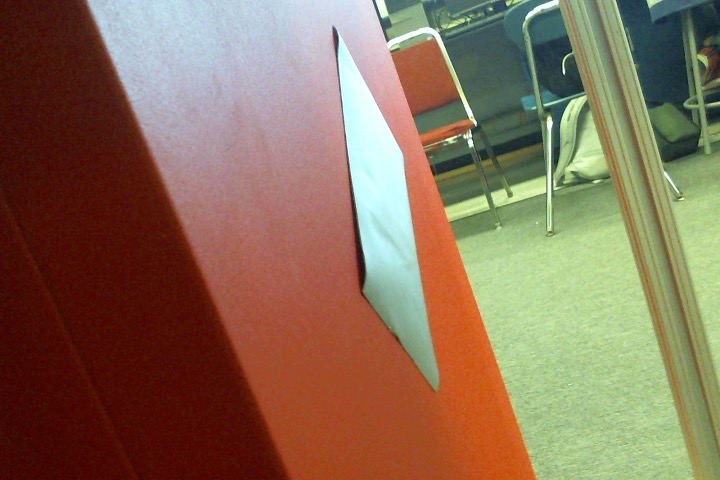Tape: (333, 25, 440, 393)
